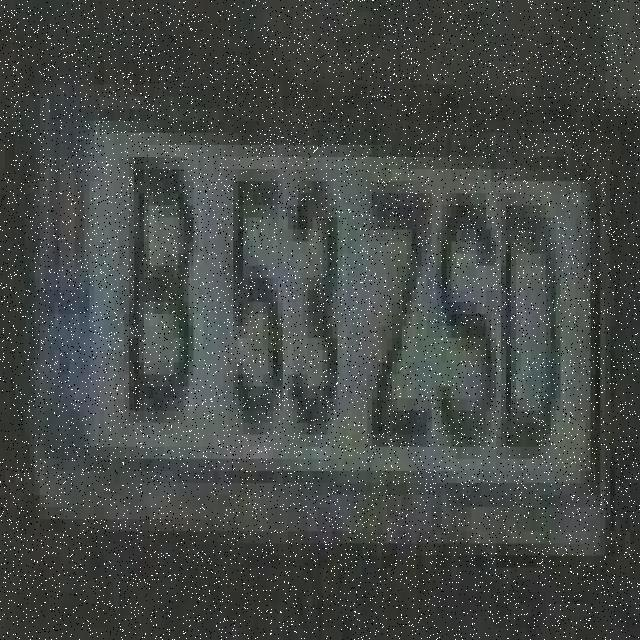licenseplate: (28, 71, 622, 582)
